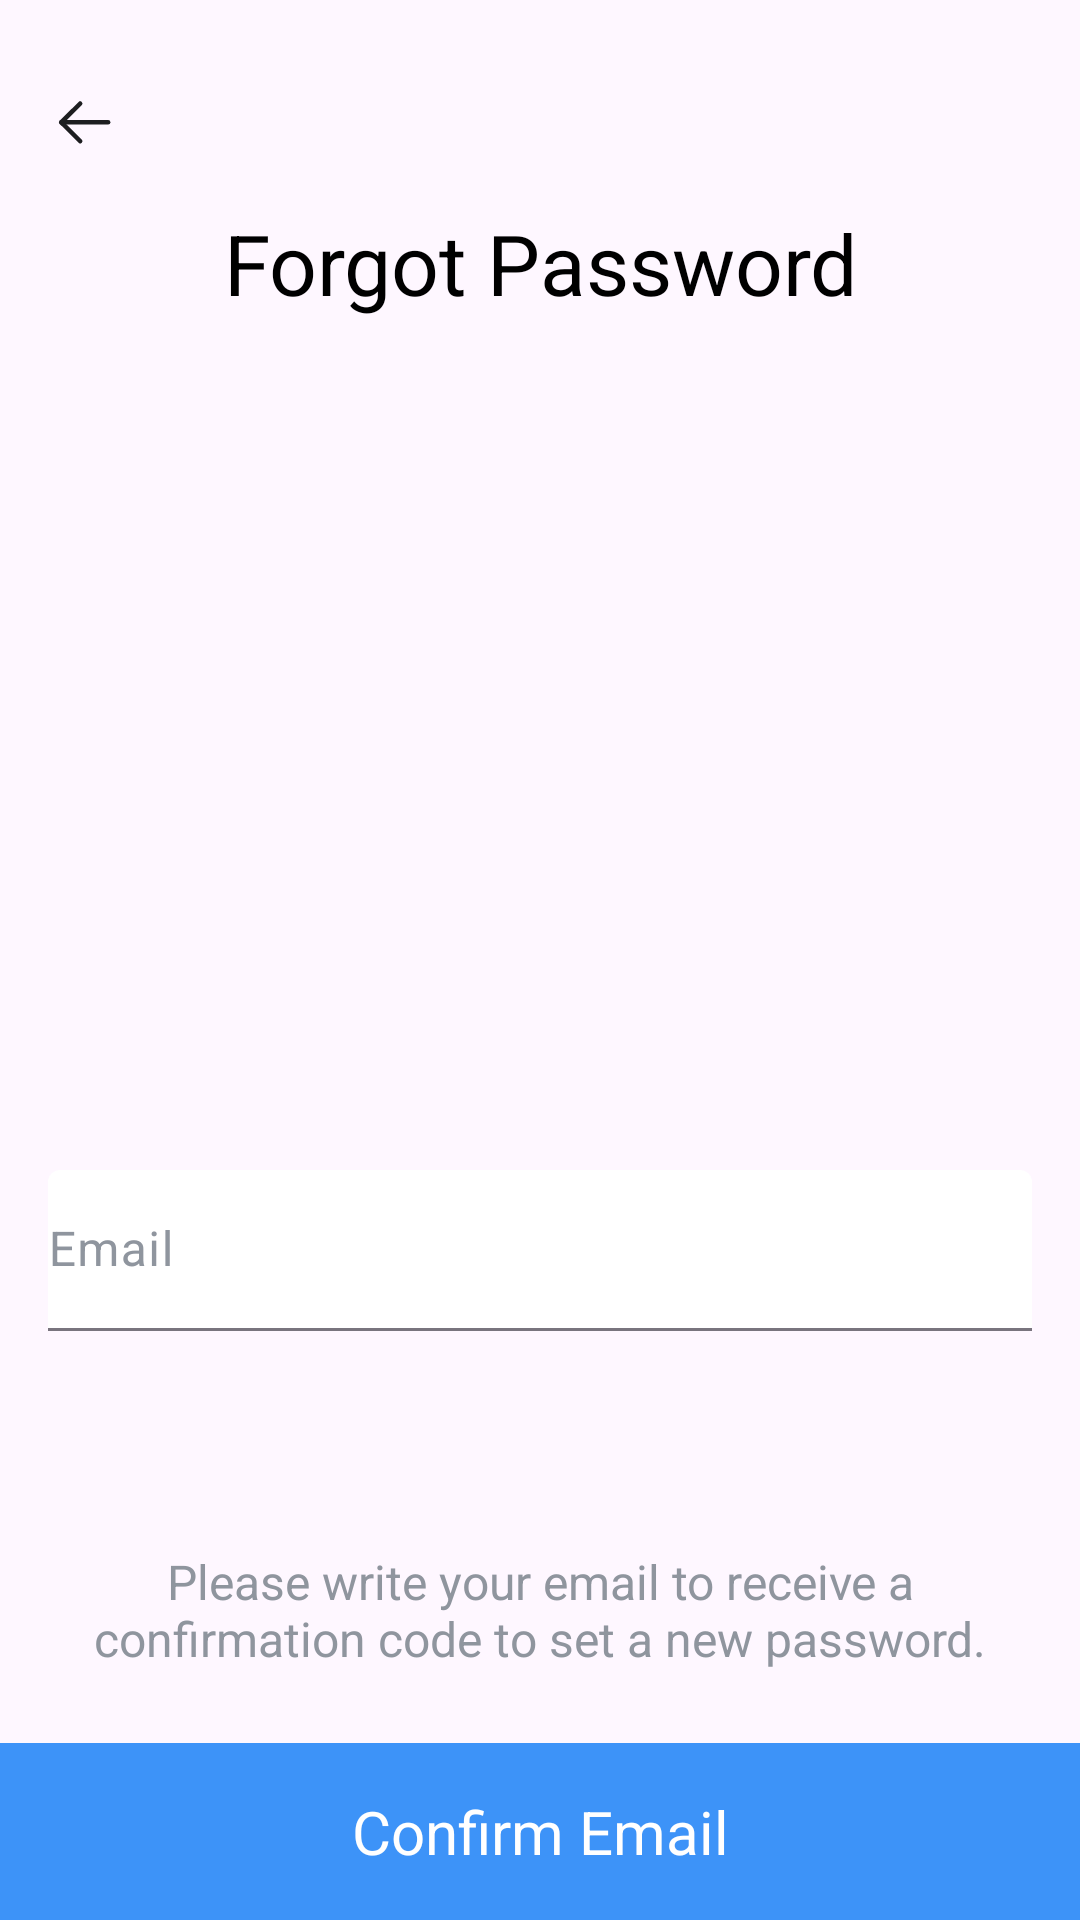

Icon bounding boxes for this 1080 × 1920 phone screenshot, format (x1, y1, x2, y2):
back: (59, 101, 111, 144)
